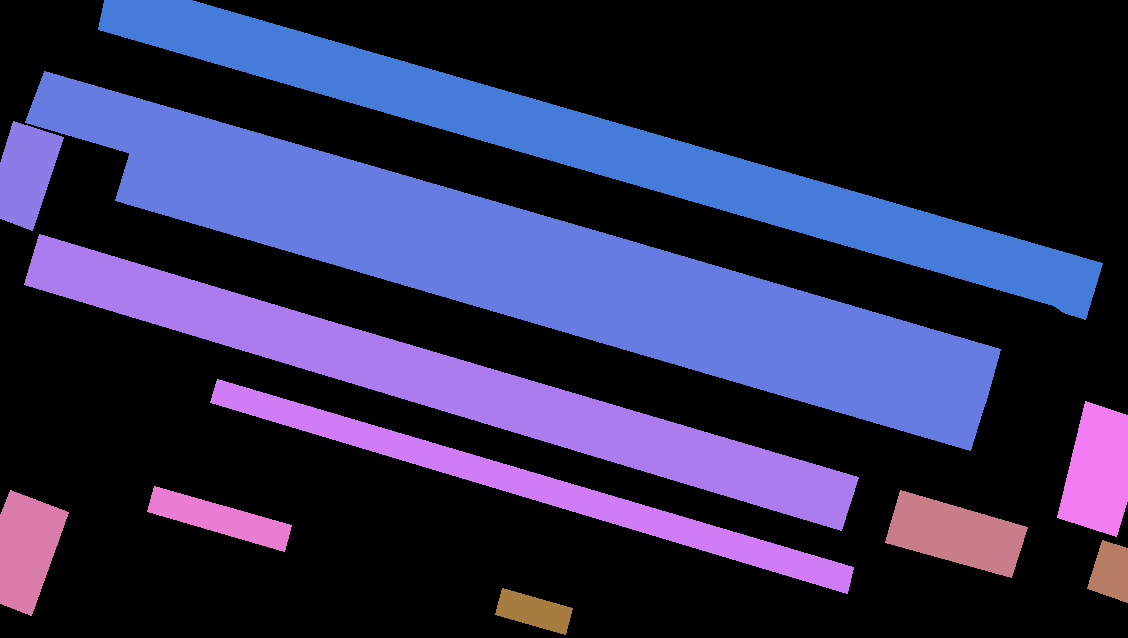parkingspot: (25, 71, 1000, 403), (98, 0, 1102, 319), (115, 151, 986, 450), (24, 234, 858, 530), (210, 379, 853, 593), (885, 490, 1027, 577), (1057, 401, 1128, 536), (147, 486, 291, 551), (0, 490, 68, 615), (0, 121, 63, 230), (495, 588, 572, 634), (1087, 540, 1128, 602)
